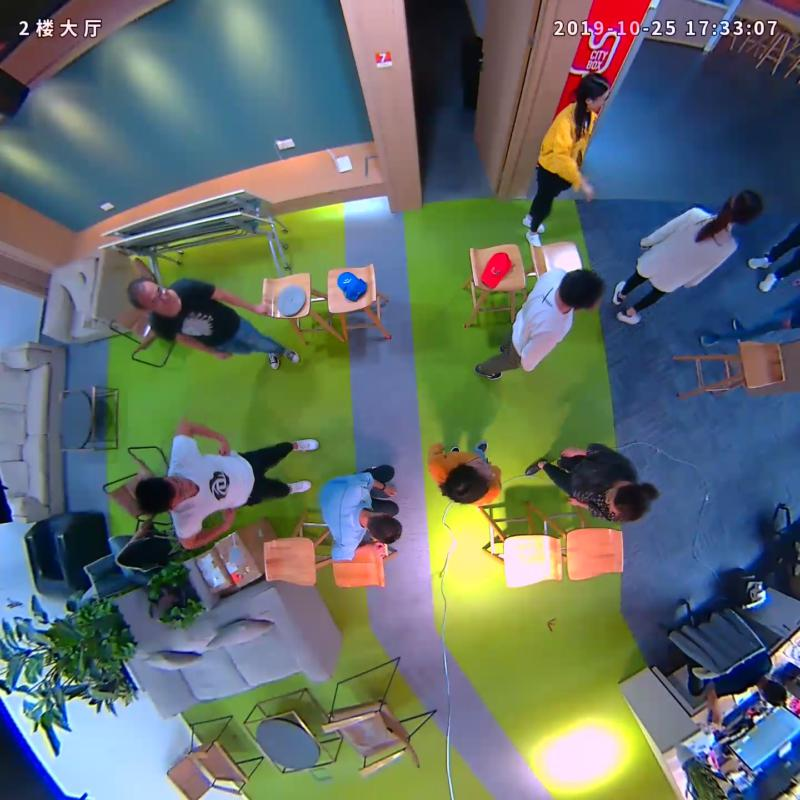head: (121, 270, 185, 324), (708, 181, 772, 232), (603, 472, 659, 529), (128, 468, 194, 516), (439, 459, 492, 514), (556, 265, 608, 315), (566, 67, 618, 114), (359, 511, 411, 550)
